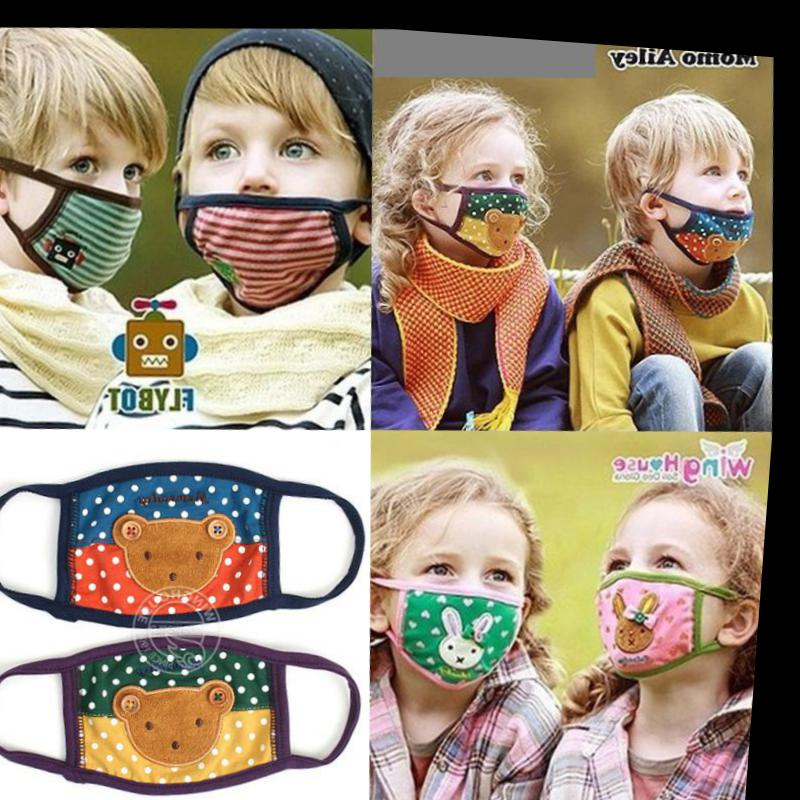OK: (1, 119, 165, 292), (391, 525, 554, 688), (594, 509, 752, 667), (434, 141, 548, 255)
WRONG: (166, 95, 360, 289), (645, 131, 770, 256)
